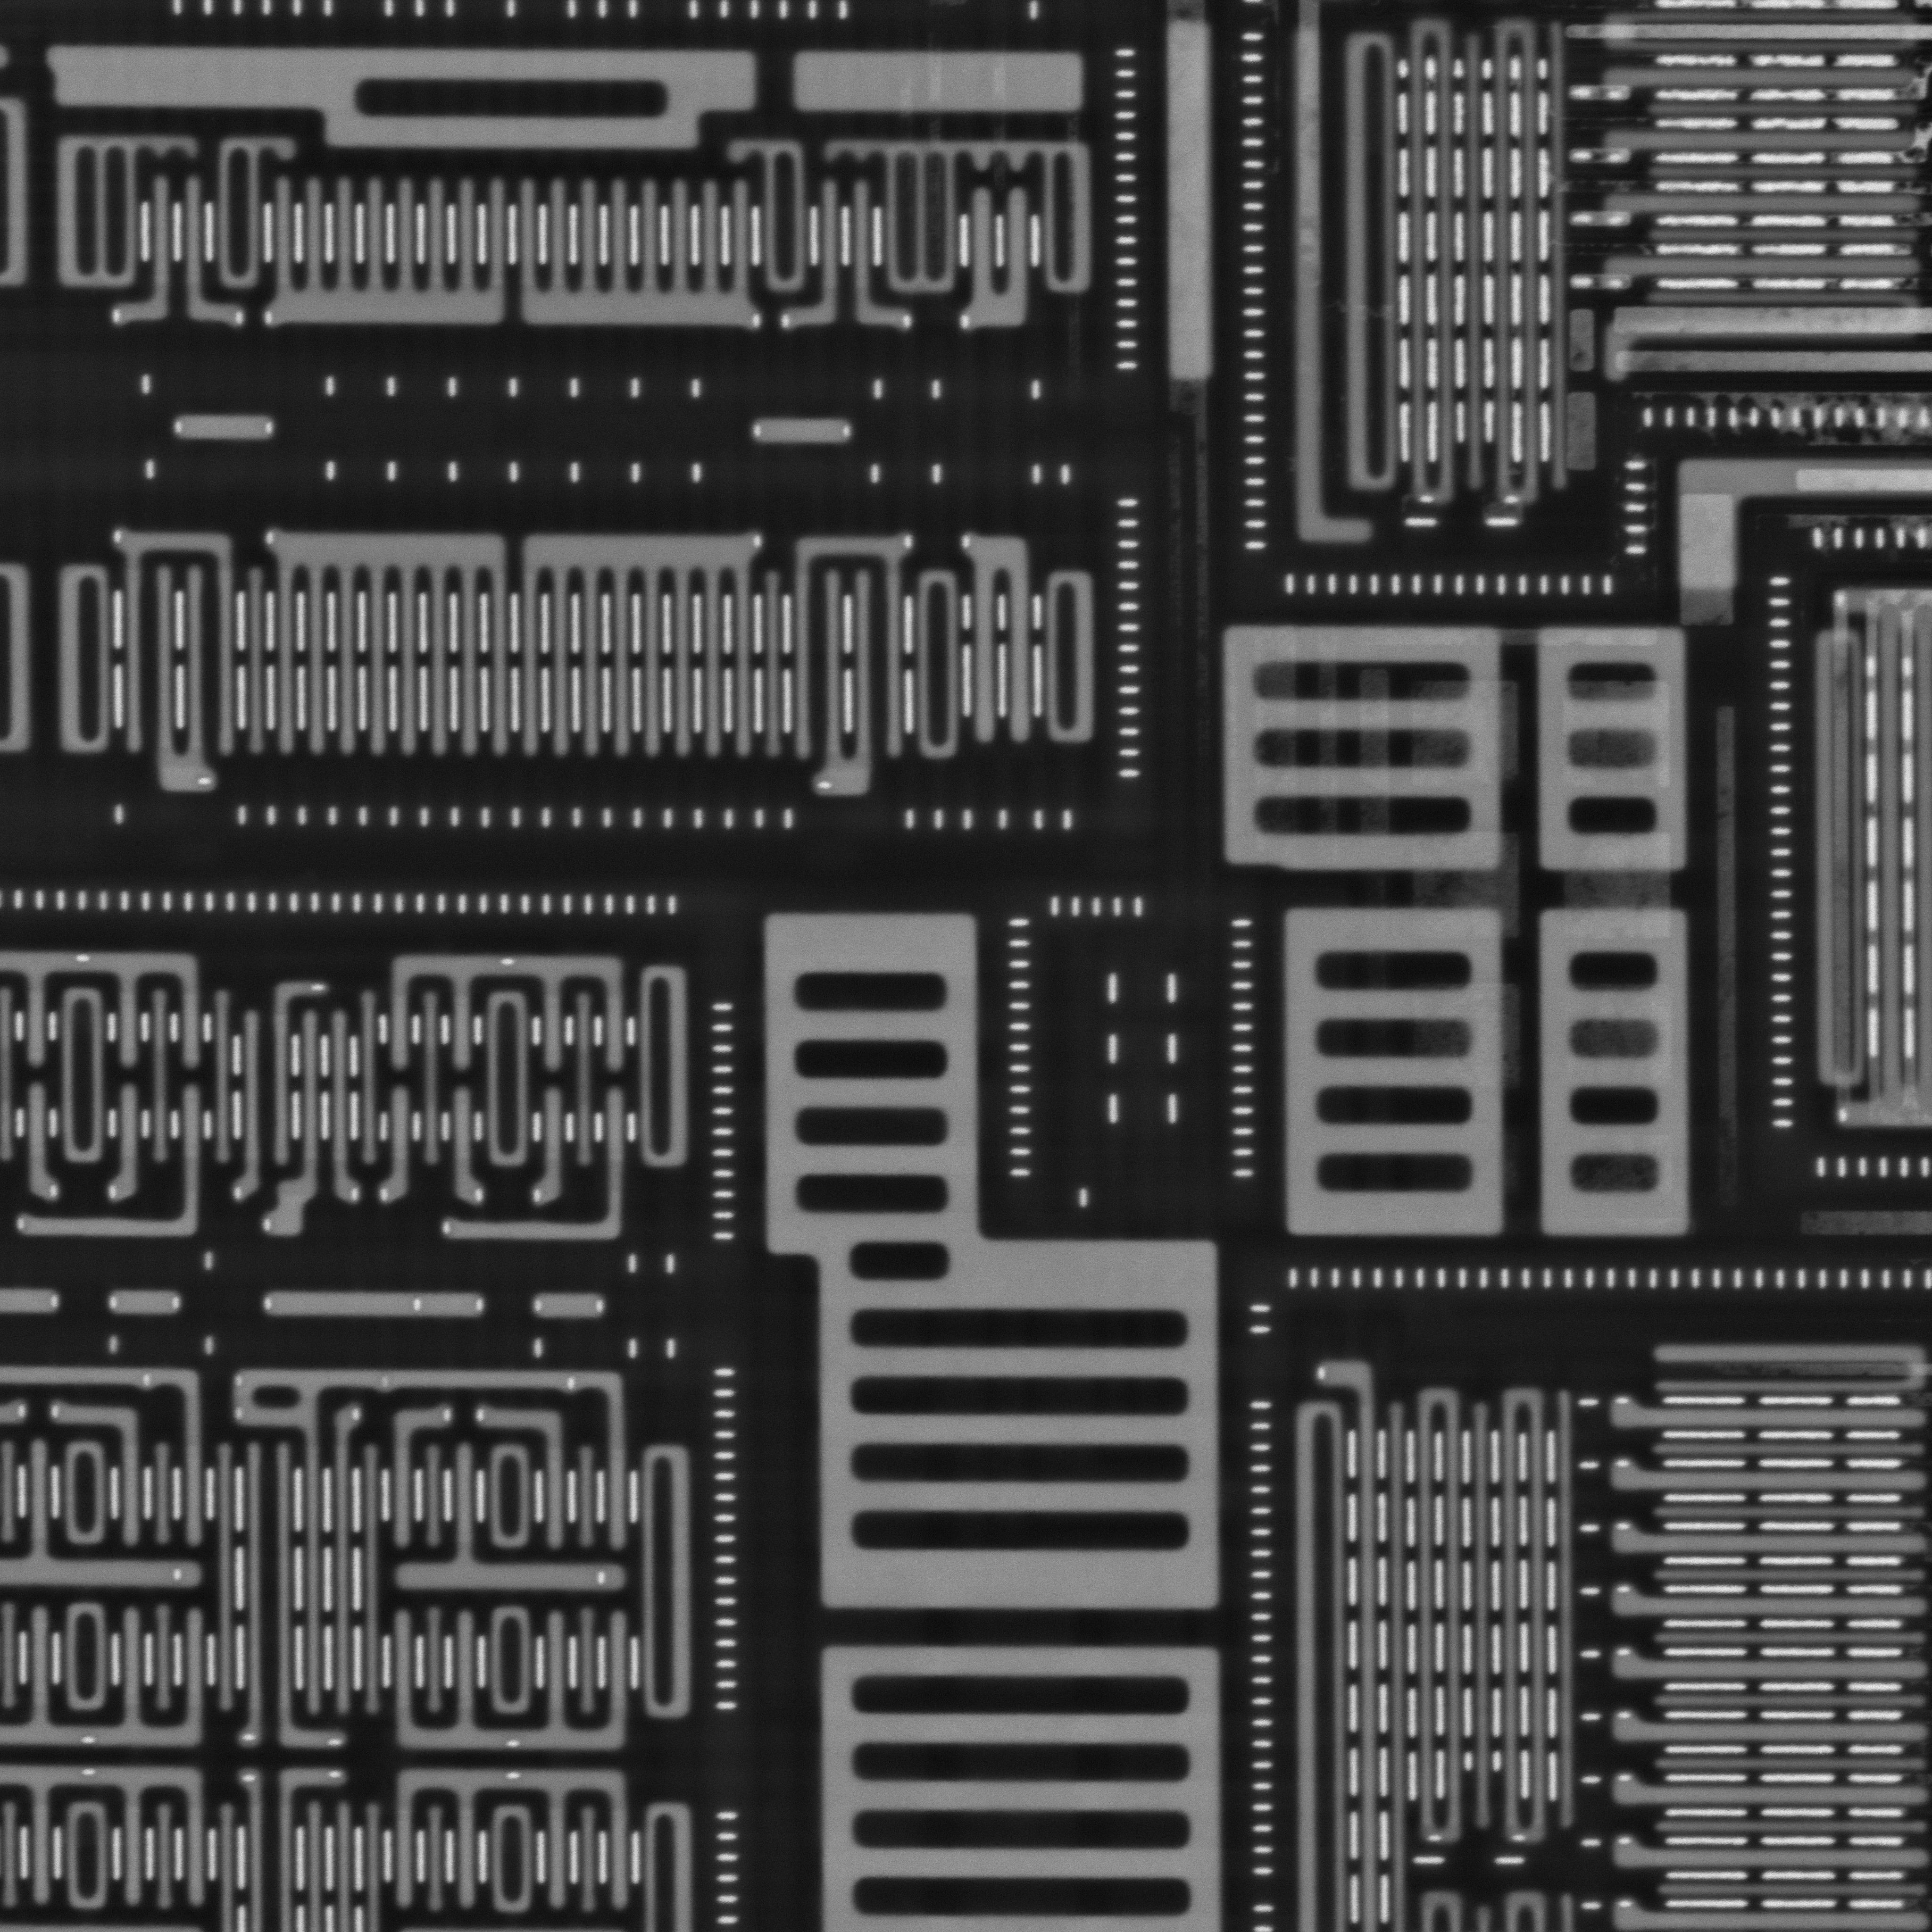circularDummy: (789, 51, 1090, 115), (1164, 23, 1212, 384)
doubleGate: (1396, 12, 1467, 515), (1483, 12, 1552, 508), (1407, 1389, 1477, 1847), (1491, 1384, 1560, 1845), (957, 531, 1046, 754), (955, 180, 1046, 334)
insideDummy: (754, 901, 1233, 1619), (37, 35, 761, 152), (1277, 906, 1511, 1240), (1537, 904, 1697, 1242)
multiGate: (508, 522, 768, 768), (264, 524, 524, 757), (508, 166, 763, 334), (260, 170, 518, 333), (382, 1598, 640, 1757), (391, 1769, 644, 1921), (380, 948, 640, 1083), (172, 172, 246, 336)
publicGate: (108, 522, 248, 796), (226, 1438, 347, 1753), (782, 524, 916, 791), (225, 978, 329, 1205)
resistor: (750, 414, 858, 449), (175, 414, 283, 441)
singleGate: (1318, 1359, 1391, 1930), (1605, 1384, 1928, 1442), (46, 1398, 154, 1557), (471, 1405, 579, 1559), (1605, 1518, 1928, 1568), (1608, 1644, 1928, 1693), (1614, 1773, 1928, 1822), (1606, 1454, 1928, 1502), (264, 1010, 329, 1244), (317, 1399, 364, 1716), (1615, 1831, 1928, 1879), (1610, 1709, 1932, 1753), (1612, 1587, 1928, 1631), (842, 175, 915, 334), (380, 1401, 456, 1552), (111, 173, 184, 331), (780, 175, 851, 331), (320, 1005, 363, 1207), (373, 1083, 423, 1205), (441, 1088, 487, 1208), (534, 1088, 575, 1207)
